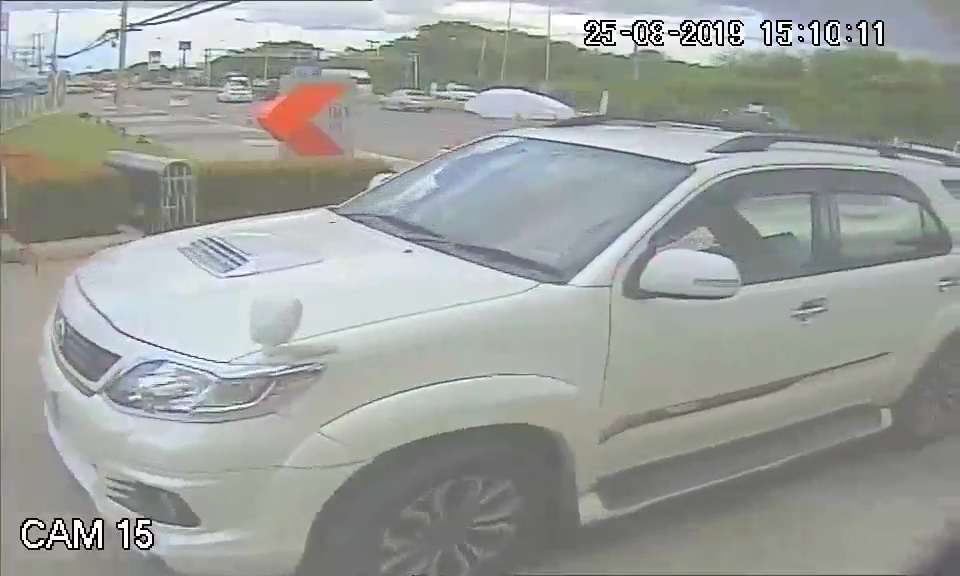pickup: (46, 115, 923, 517)
